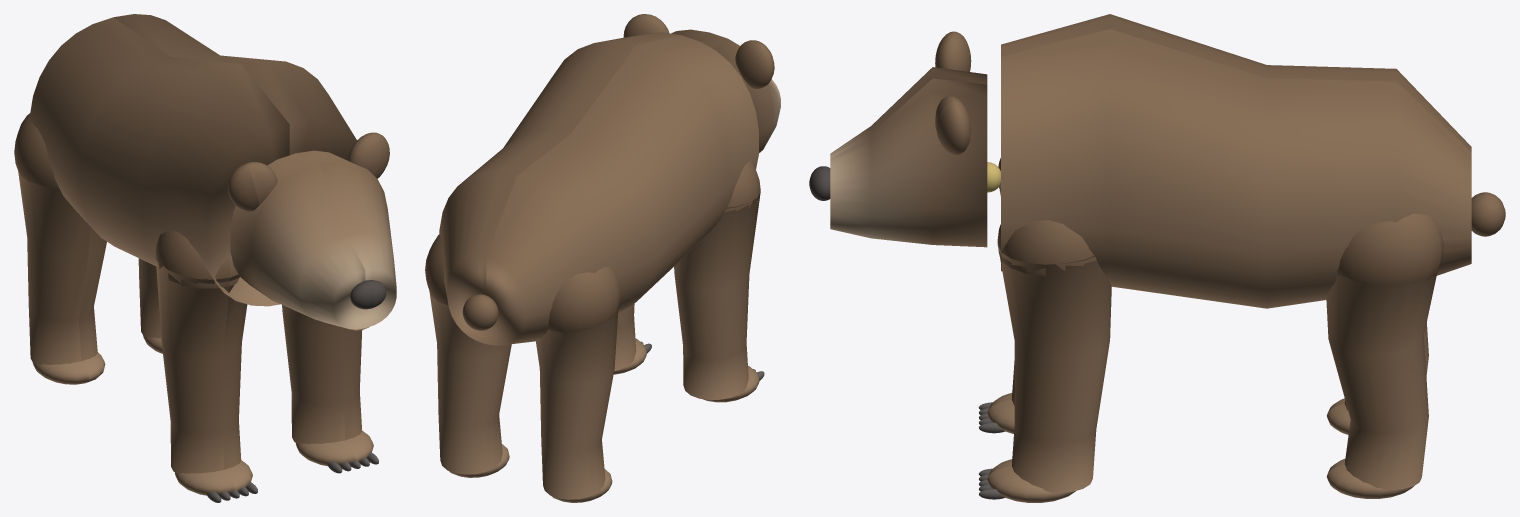
File: bear.glb
The picture shows the model from 3 angles, left to right: view 1: azimuth 30°, elevation 25°; view 2: azimuth 150°, elevation 25°; view 3: azimuth 270°, elevation 25°; orthographic projection. The views are drawn at different scales.
Visible parts, largest first — view 1: Body, Head, Leg_FL, Leg_RL, Leg_FR, Ear_L, Leg_RR, Ear_R; view 2: Body, Leg_RL, Leg_FL, Leg_RR, Head, Leg_FR, Ear_L, Tail, Ear_R; view 3: Body, Leg_FR, Leg_RR, Head, Ear_R, Leg_FL, Tail, Ear_L, Leg_RL.
Boxes of the visible parts, x1,y1,x2,y2 form: Body: [29, 14, 356, 306]; Head: [230, 150, 396, 329]; Leg_FL: [155, 230, 257, 502]; Leg_RL: [14, 113, 106, 384]; Leg_FR: [282, 305, 378, 473]; Ear_L: [227, 162, 277, 211]; Leg_RR: [138, 258, 162, 353]; Ear_R: [347, 132, 389, 178]; Body: [439, 32, 758, 345]; Leg_RL: [536, 267, 620, 502]; Leg_FL: [674, 161, 764, 402]; Leg_RR: [425, 234, 511, 477]; Head: [671, 29, 780, 152]; Leg_FR: [613, 303, 651, 374]; Ear_L: [735, 40, 774, 88]; Tail: [462, 294, 498, 330]; Ear_R: [623, 14, 669, 37]; Body: [1001, 14, 1471, 308]; Leg_FR: [979, 220, 1111, 502]; Leg_RR: [1326, 213, 1443, 498]; Head: [809, 67, 1000, 247]; Ear_R: [935, 96, 971, 155]; Leg_FL: [978, 158, 1014, 433]; Tail: [1471, 192, 1505, 236]; Ear_L: [935, 31, 971, 71]; Leg_RL: [1327, 322, 1428, 434].
Size of the model in its own units: 0.7751 by 1.4 by 2.04.
